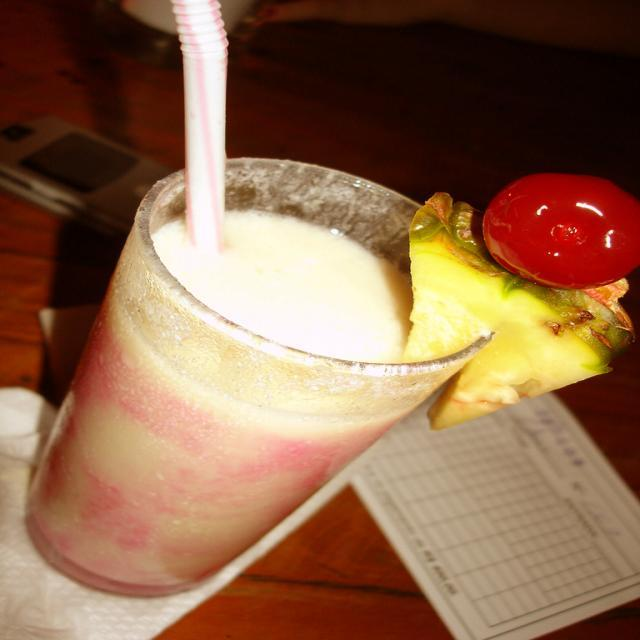Juice: (50, 156, 538, 633)
